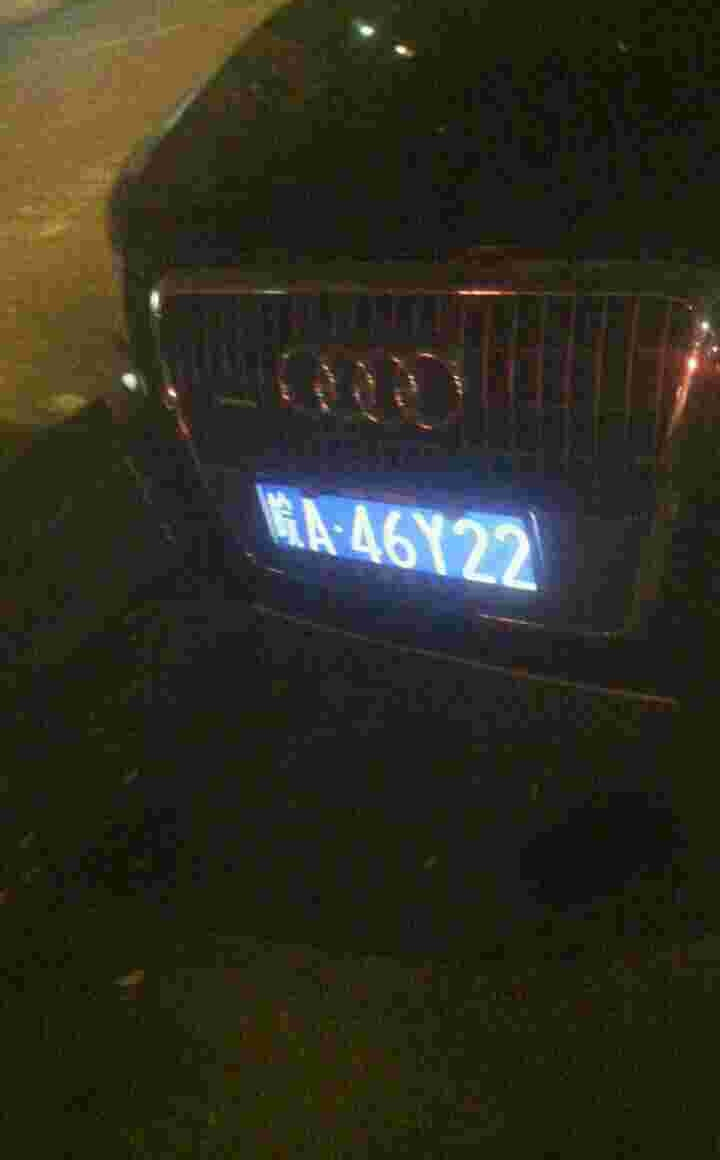license_plate: (252, 485, 538, 588)
